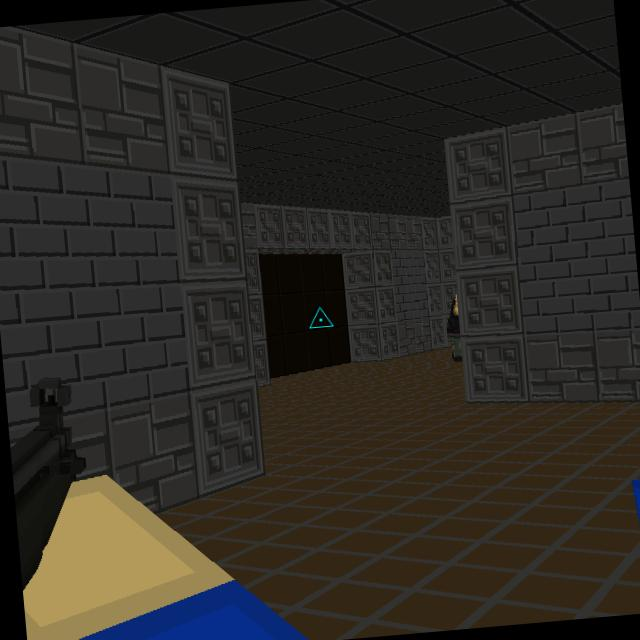enemy: (443, 289, 463, 362)
